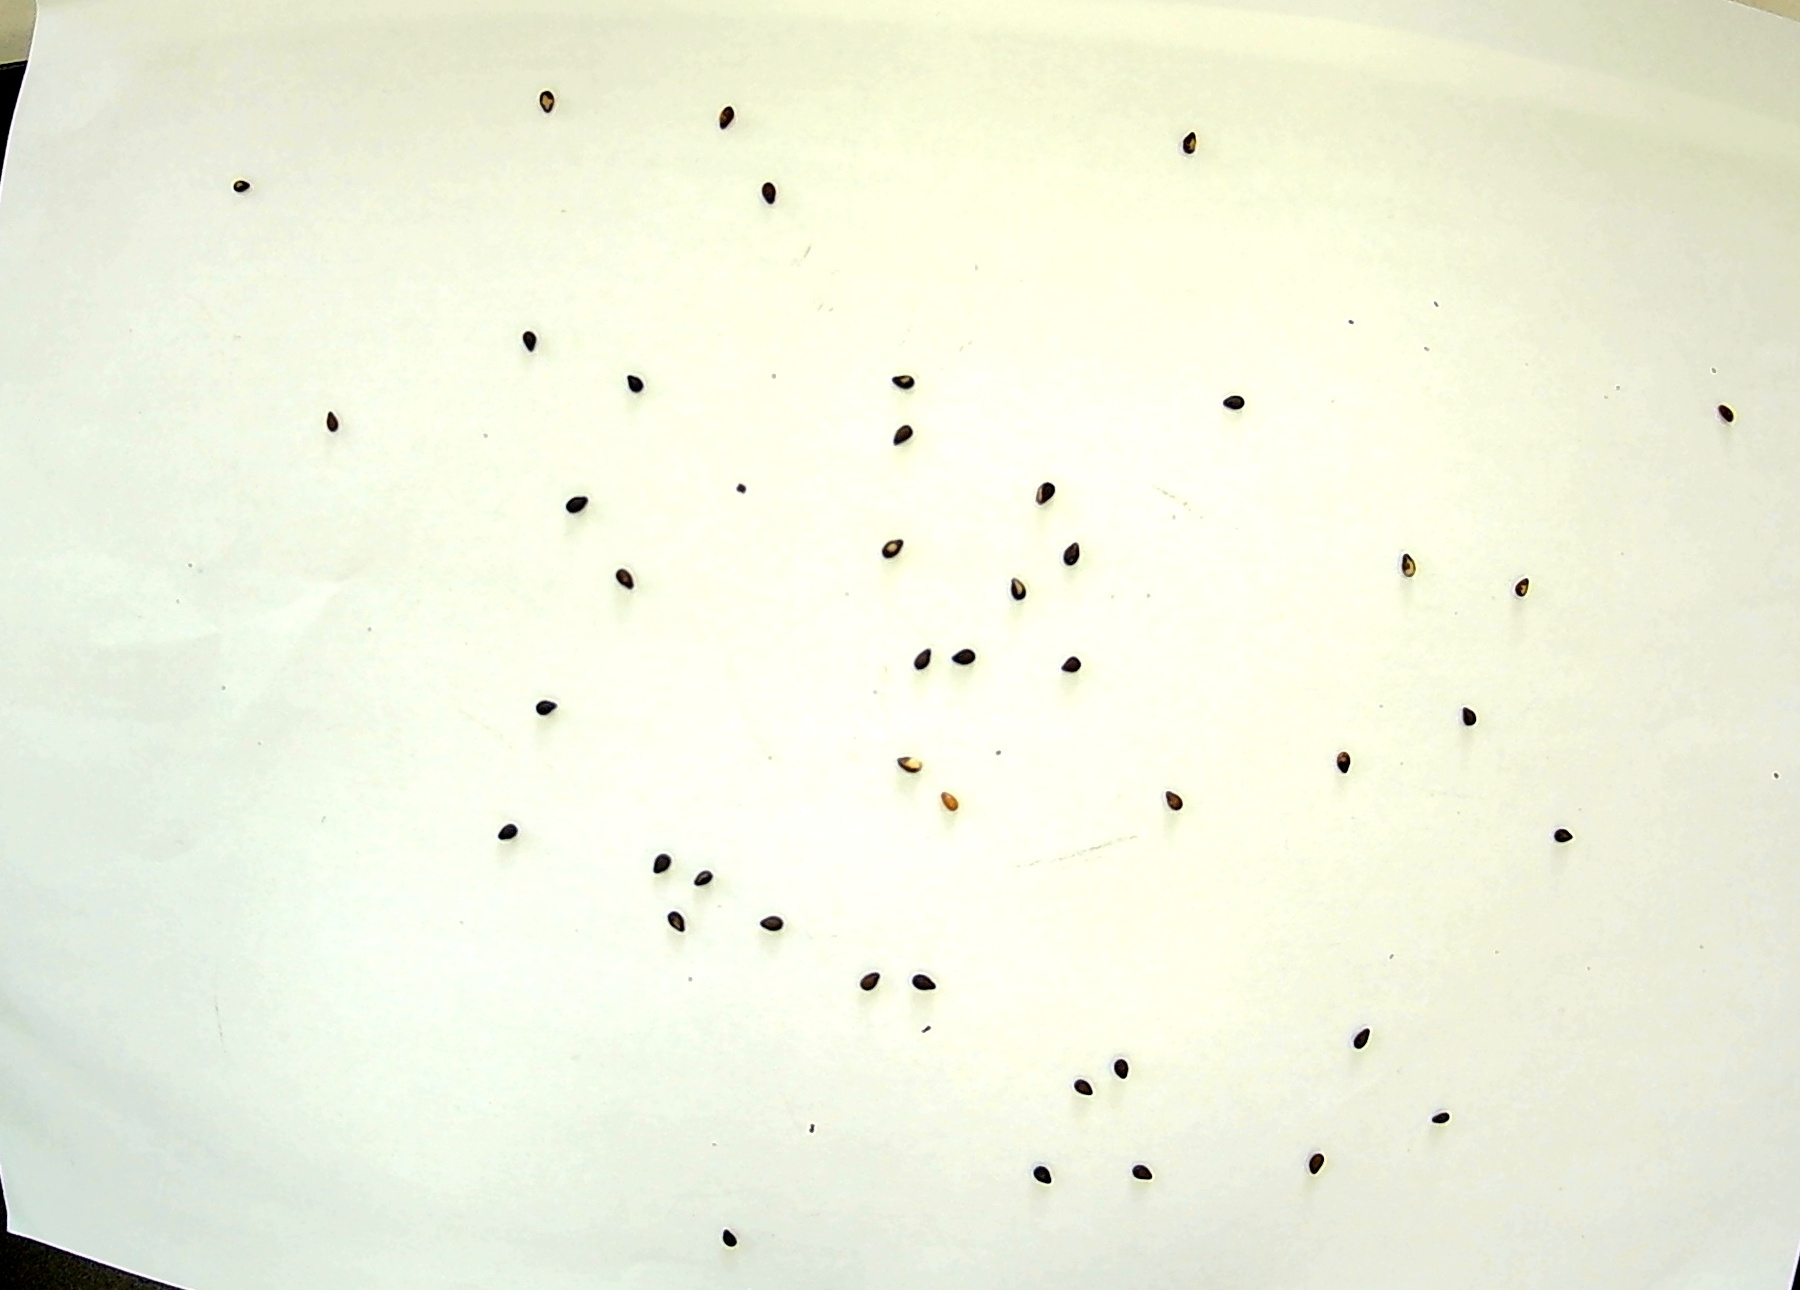sesami: (712, 1223, 753, 1252), (1342, 1028, 1384, 1057), (1104, 1051, 1146, 1081), (1060, 651, 1102, 680), (894, 746, 936, 775), (1049, 537, 1091, 567), (878, 420, 920, 450), (878, 369, 920, 398), (219, 173, 260, 202), (511, 320, 551, 349), (530, 88, 571, 117), (700, 106, 741, 135), (751, 177, 791, 207), (622, 373, 663, 402), (562, 483, 603, 512), (601, 565, 642, 595), (491, 818, 532, 847), (646, 846, 687, 875), (747, 912, 787, 941), (855, 969, 896, 998), (900, 969, 940, 998), (1120, 1153, 1161, 1182), (1420, 1103, 1461, 1132), (1070, 1069, 1111, 1099), (1320, 750, 1360, 779), (1543, 822, 1584, 852), (1448, 706, 1489, 736), (1507, 577, 1547, 606), (1387, 547, 1427, 577), (904, 649, 945, 679), (1220, 385, 1260, 415), (1172, 130, 1213, 159), (654, 907, 696, 935), (1030, 482, 1072, 510), (307, 410, 347, 438), (525, 685, 565, 713), (685, 859, 726, 887), (1019, 1155, 1059, 1182), (1295, 1148, 1335, 1176), (1154, 785, 1194, 813), (1695, 401, 1736, 429), (932, 785, 973, 813), (947, 644, 988, 672), (992, 577, 1033, 605), (867, 531, 907, 558)
